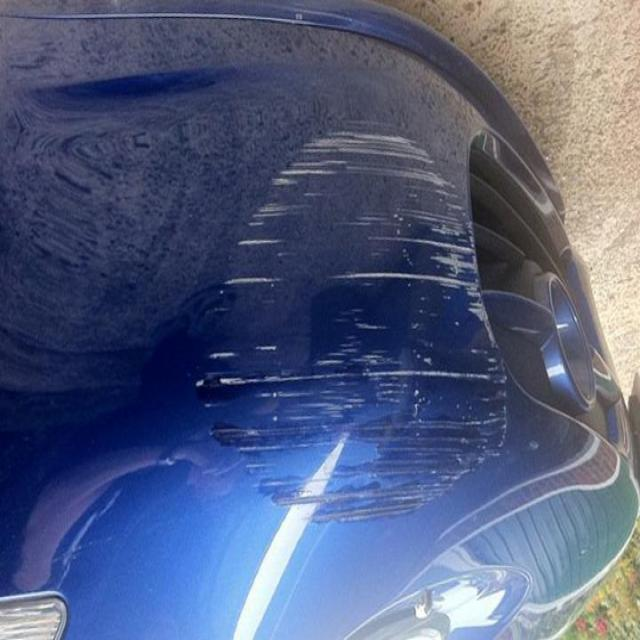scratch: (186, 120, 506, 508)
